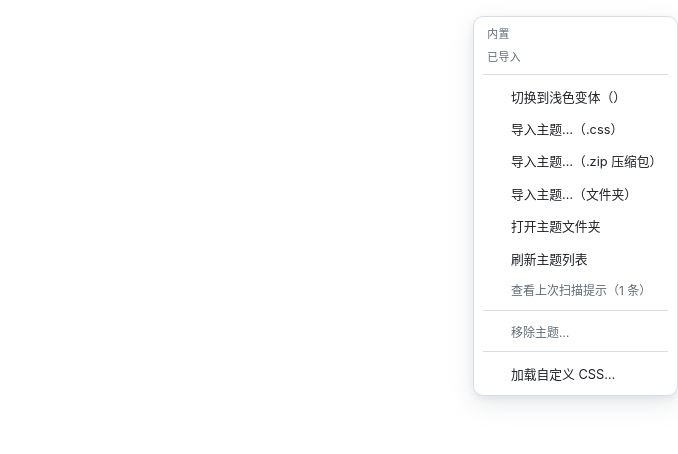
it: ThemeMenu scan diagnostics › exposes the skipped bundled symlink path through an accessible disclosure
Click the menu item "查看上次扫描提示（1 条）": (576, 290) [479, 274, 672, 305]
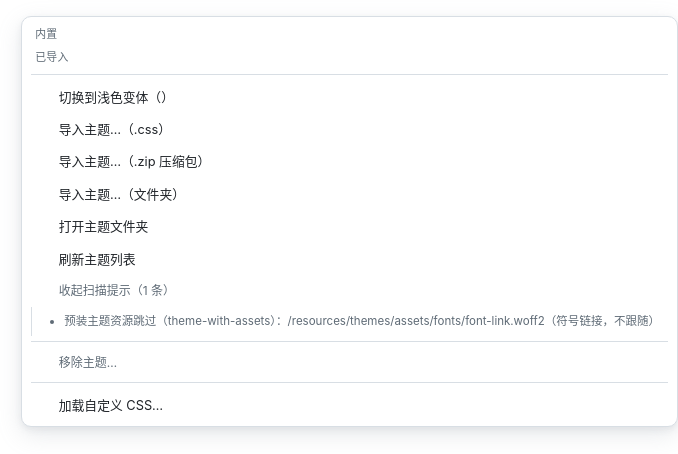
Expected: the menu item named "查看上次扫描提示（1 条）" is expanded, [27, 274, 672, 305]
Expected: the element named "收起扫描提示（1 条）" is shown, [31, 307, 668, 336]
Expected: the element named "收起扫描提示（1 条）" shows "theme-with-assets", [64, 314, 660, 328]
